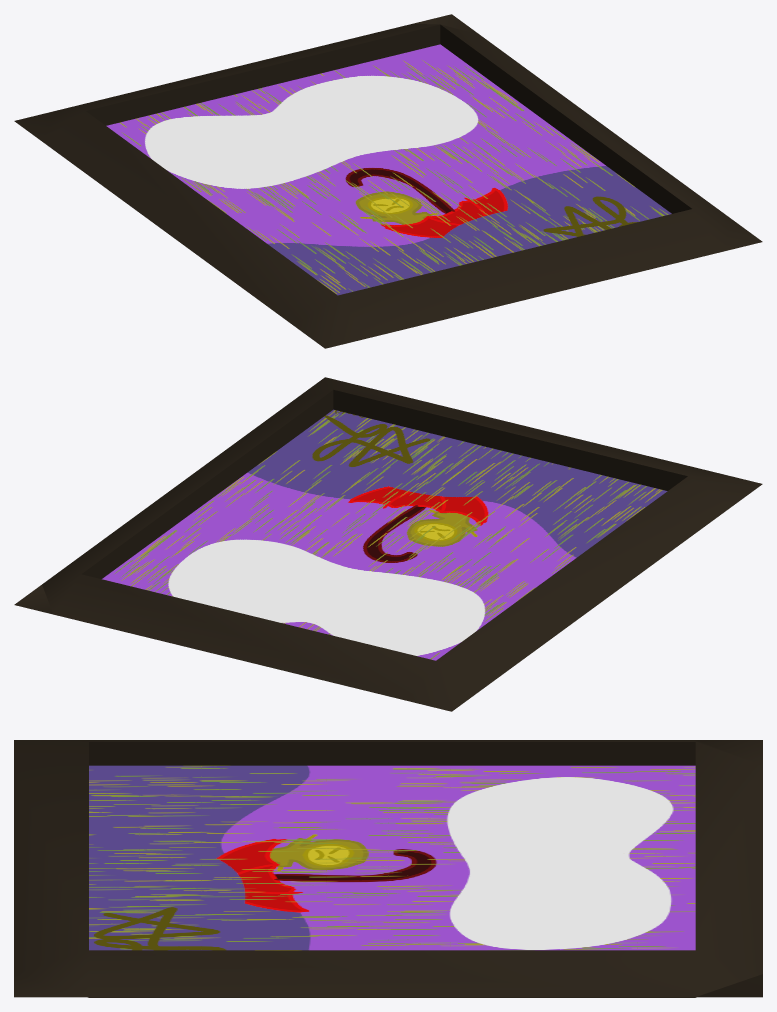
The model's file is Painting22.fbx.
3 renders of one model, top to bottom at view 1: azimuth 30°, elevation 25°; view 2: azimuth 150°, elevation 25°; view 3: azimuth 270°, elevation 25°, orthographic. The views are drawn at different scales.
Parts seen in each view (by area): view 1: pPlane1, pCube1; view 2: pPlane1, pCube1; view 3: pPlane1, pCube1.
Part boxes in pixels (left/top/right/bottom): pPlane1: left=106, top=44, right=671, bottom=295; pCube1: left=14, top=14, right=762, bottom=348; pPlane1: left=102, top=409, right=667, bottom=660; pCube1: left=14, top=377, right=762, bottom=711; pPlane1: left=89, top=765, right=695, bottom=950; pCube1: left=14, top=740, right=762, bottom=997.
Bounding box in the file's own units: 4.98 × 0.4312 × 6.14.
2 materials, 1 textured.
